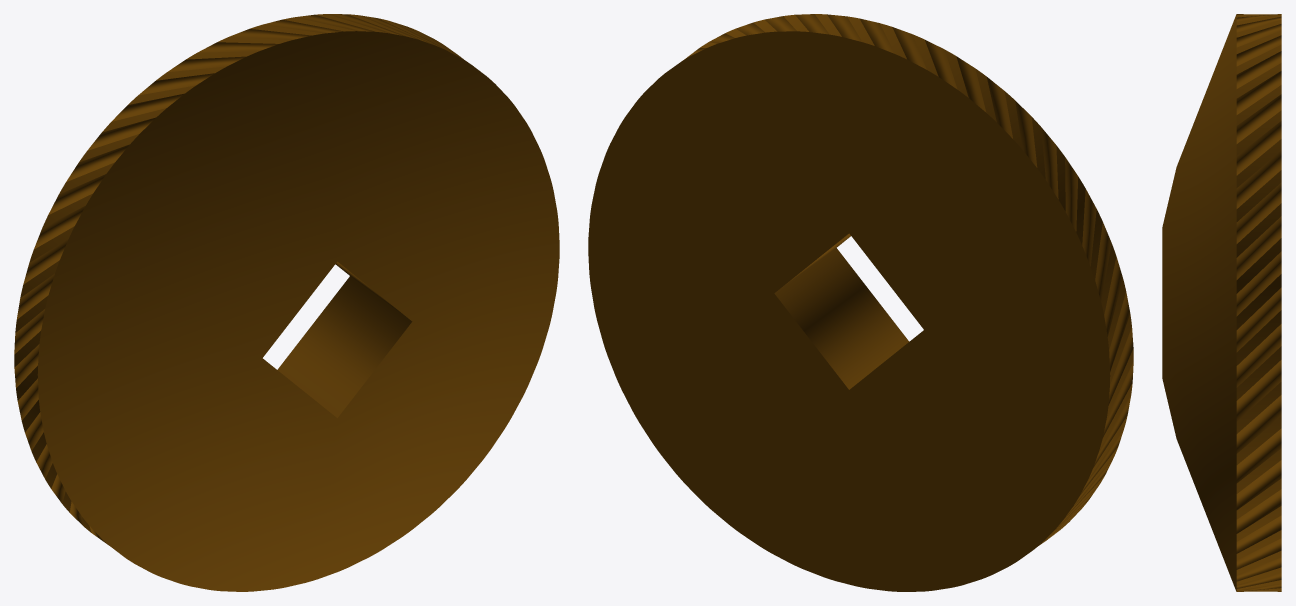
Rendered from Ecrou Aigulles.obj.
3 views of the same model, side by side, from view 1: azimuth 30°, elevation 25°; view 2: azimuth 150°, elevation 25°; view 3: azimuth 270°, elevation 25° (orthographic). The views are drawn at different scales.
Parts seen in each view (by area): view 1: Face_51, Face_53, Face_86, Face_85, Face_84, Face_87, Face_83; view 2: Face_52, Face_53, Face_85, Face_84, Face_86, Face_83, Face_87; view 3: Face_51, Face_100, Face_101, Face_102, Face_99, Face_103, Face_98, Face_54, Face_97, Face_55, Face_96, Face_56 (+32 smaller).
Part boxes in pixels (<box>): Face_51: <box>37,31,559,591</box>; Face_53: <box>277,261,412,417</box>; Face_86: <box>87,117,155,150</box>; Face_85: <box>66,144,129,181</box>; Face_84: <box>48,174,105,215</box>; Face_87: <box>111,93,184,121</box>; Face_83: <box>34,206,85,249</box>; Face_52: <box>588,31,1110,591</box>; Face_53: <box>774,233,909,389</box>; Face_85: <box>1041,127,1058,199</box>; Face_84: <box>1065,157,1078,231</box>; Face_86: <box>1015,101,1037,167</box>; Face_83: <box>1082,189,1096,266</box>; Face_87: <box>987,77,1012,138</box>; Face_51: <box>1162,14,1236,591</box>; Face_100: <box>1236,251,1281,316</box>; Face_101: <box>1236,287,1281,352</box>; Face_102: <box>1236,324,1281,387</box>; Face_99: <box>1236,216,1281,279</box>; Face_103: <box>1236,360,1281,421</box>; Face_98: <box>1236,182,1281,243</box>; Face_54: <box>1236,395,1281,453</box>; Face_97: <box>1236,150,1281,208</box>; Face_55: <box>1236,428,1281,483</box>; Face_96: <box>1236,121,1281,175</box>; Face_56: <box>1236,460,1281,509</box>.
Size of the model in its own units: 0.0115 by 0.0115 by 0.00238.
